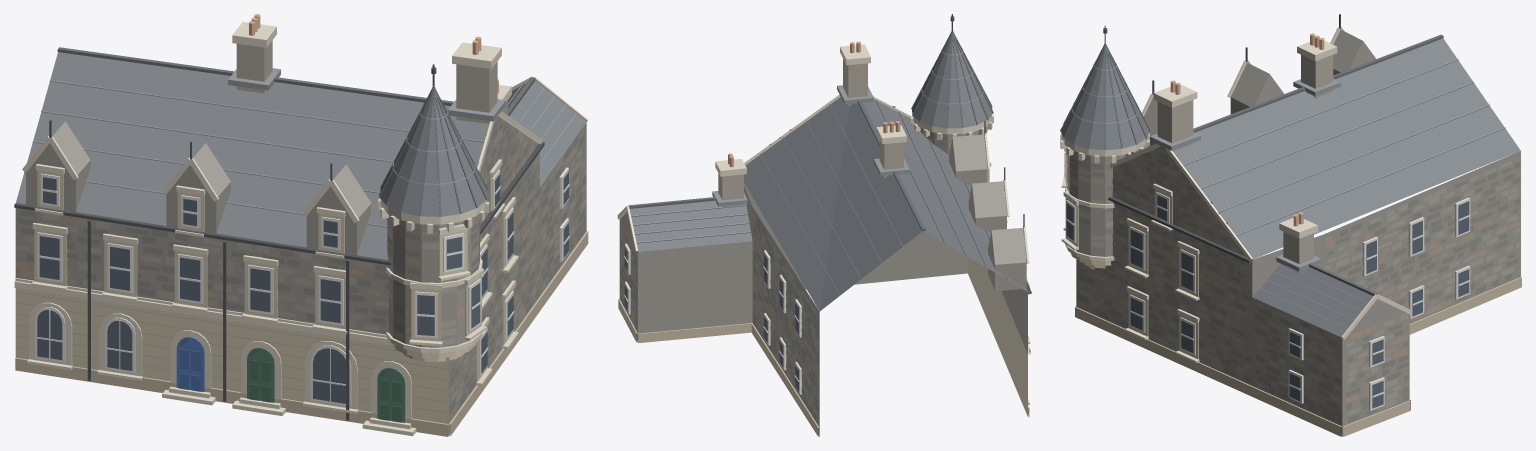
3 views of the same model, side by side, from view 1: azimuth 30°, elevation 25°; view 2: azimuth 150°, elevation 25°; view 3: azimuth 270°, elevation 25° (orthographic). The views are drawn at different scales.
Parts seen in each view (by area): view 1: slate, rubble, ss_lt, ss, rubble_dk, frame, rubble_lt, ss_dk, slate_dk, pipe, slate_lt, chim_stone (+16 smaller); view 2: slate, rubble, ss_lt, ss, slate_lt, slate_dk, rubble_dk, ss_dk, chim_stone, rubble_lt, frame, lead (+1 smaller); view 3: slate, rubble, rubble_dk, rubble_lt, ss_lt, ss_dk, frame, rubble_rust, slate_lt, slate_dk, chim_stone, ss (+3 smaller).
Part boxes in pixels (bbox=[...]): slate: bbox=[16, 52, 586, 259]; rubble: bbox=[15, 116, 586, 435]; ss_lt: bbox=[14, 22, 588, 436]; ss: bbox=[15, 168, 513, 435]; rubble_dk: bbox=[18, 117, 586, 411]; frame: bbox=[35, 167, 569, 406]; rubble_lt: bbox=[17, 125, 586, 402]; ss_dk: bbox=[15, 230, 588, 436]; slate_dk: bbox=[57, 47, 535, 216]; pipe: bbox=[14, 64, 544, 420]; slate_lt: bbox=[24, 80, 576, 227]; chim_stone: bbox=[236, 40, 507, 123]; slate: bbox=[629, 41, 1027, 311]; rubble: bbox=[619, 128, 1027, 436]; ss_lt: bbox=[617, 44, 1030, 404]; ss: bbox=[968, 170, 1027, 416]; slate_lt: bbox=[631, 49, 1007, 295]; slate_dk: bbox=[628, 30, 993, 231]; rubble_dk: bbox=[620, 129, 987, 420]; ss_dk: bbox=[618, 298, 1029, 436]; chim_stone: bbox=[718, 59, 903, 208]; rubble_lt: bbox=[620, 95, 985, 415]; frame: bbox=[624, 164, 1026, 394]; lead: bbox=[712, 85, 909, 206]; slate: bbox=[1061, 38, 1520, 337]; rubble: bbox=[1067, 30, 1520, 436]; rubble_dk: bbox=[1070, 146, 1520, 424]; rubble_lt: bbox=[1067, 146, 1520, 415]; ss_lt: bbox=[1060, 27, 1411, 362]; ss_dk: bbox=[1075, 277, 1521, 436]; frame: bbox=[1064, 151, 1470, 410]; rubble_rust: bbox=[1067, 152, 1520, 403]; slate_lt: bbox=[1071, 59, 1505, 328]; slate_dk: bbox=[1060, 34, 1443, 295]; chim_stone: bbox=[1157, 55, 1333, 272]; ss: bbox=[1065, 151, 1198, 359].
Bounding box in the file's own units: 24.38 × 14.8 × 21.22.
